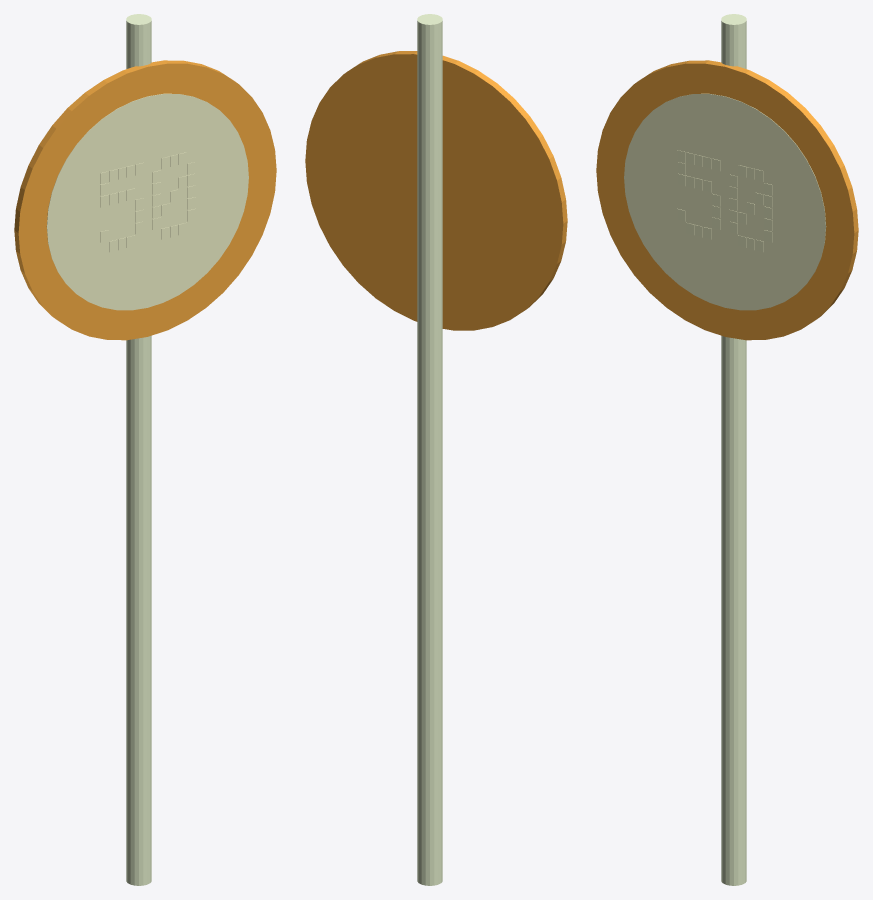
File: sign_speed_limit_50.glb
The picture shows the model from 3 angles, left to right: view 1: azimuth 30°, elevation 25°; view 2: azimuth 150°, elevation 25°; view 3: azimuth 330°, elevation 25°; orthographic projection.
Parts seen in each view (by area): view 1: layer_1_00, plate_base_00, pole; view 2: plate_base_00, pole; view 3: layer_1_00, plate_base_00, pole.
Boxes of the visible parts, x1=… form: layer_1_00: x1=46, y1=93, x2=248, y2=310; plate_base_00: x1=14, y1=60, x2=276, y2=340; pole: x1=126, y1=14, x2=151, y2=885; plate_base_00: x1=305, y1=51, x2=567, y2=330; pole: x1=417, y1=14, x2=442, y2=885; layer_1_00: x1=624, y1=93, x2=826, y2=310; plate_base_00: x1=596, y1=60, x2=858, y2=340; pole: x1=721, y1=14, x2=746, y2=885.
Bounding box in the file's own units: 0.69 × 2.2 × 0.0725.
